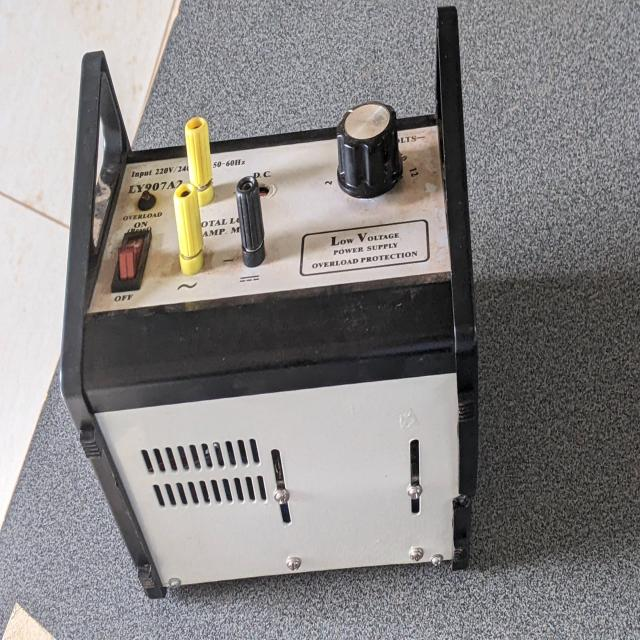AC-AD Regulated Power Supply: (52, 55, 485, 587)
